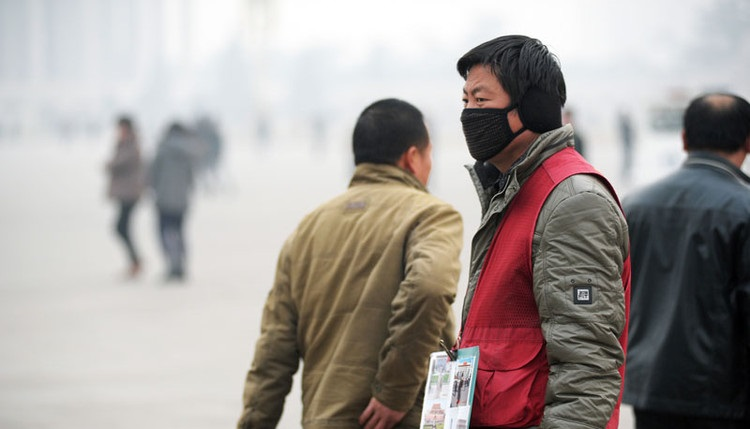face_mask: (462, 65, 525, 161)
